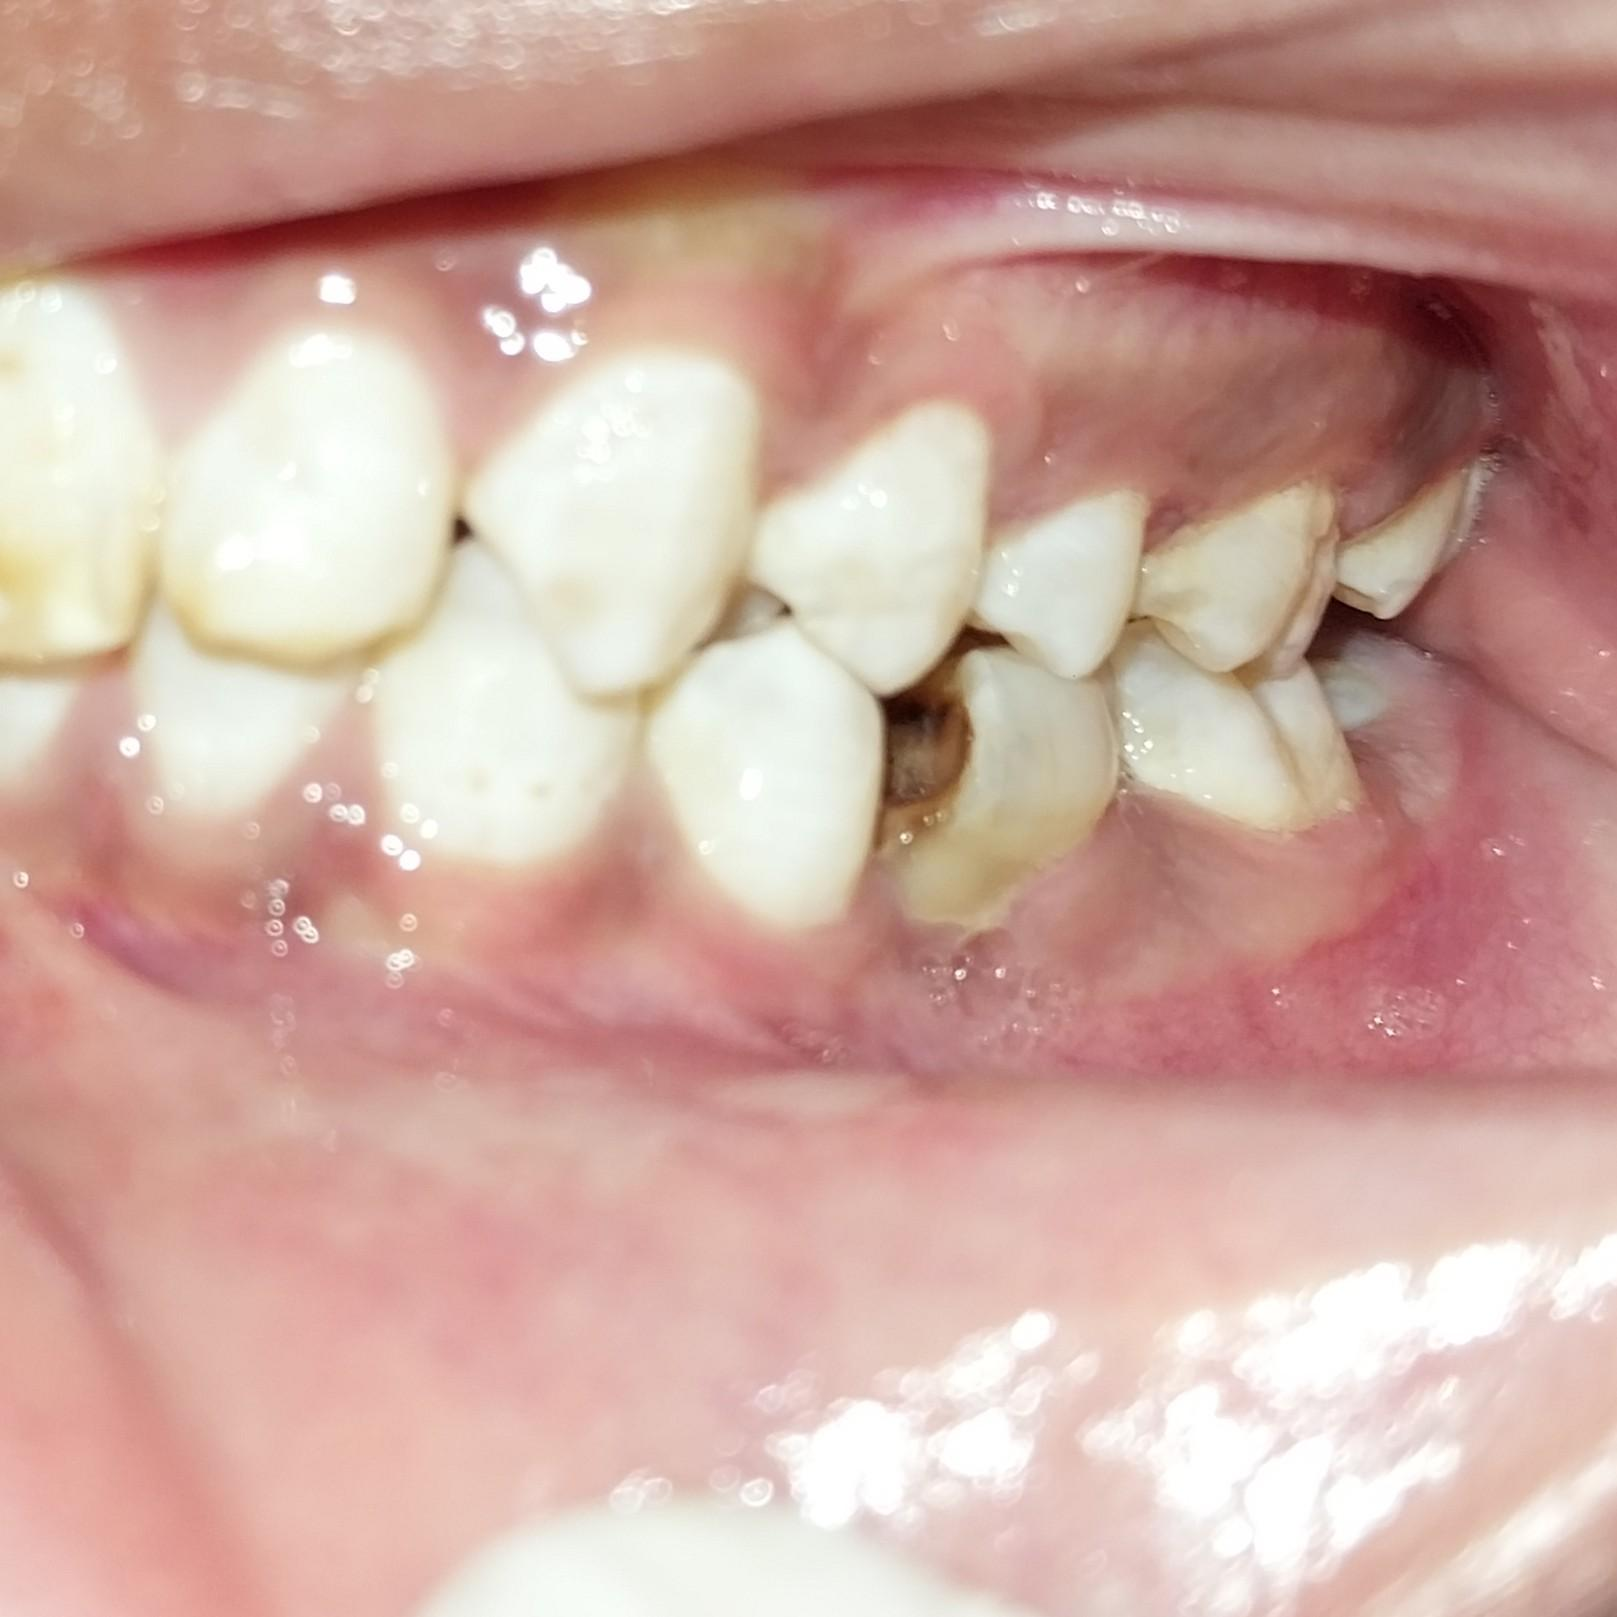d: (893, 654, 1112, 889)
